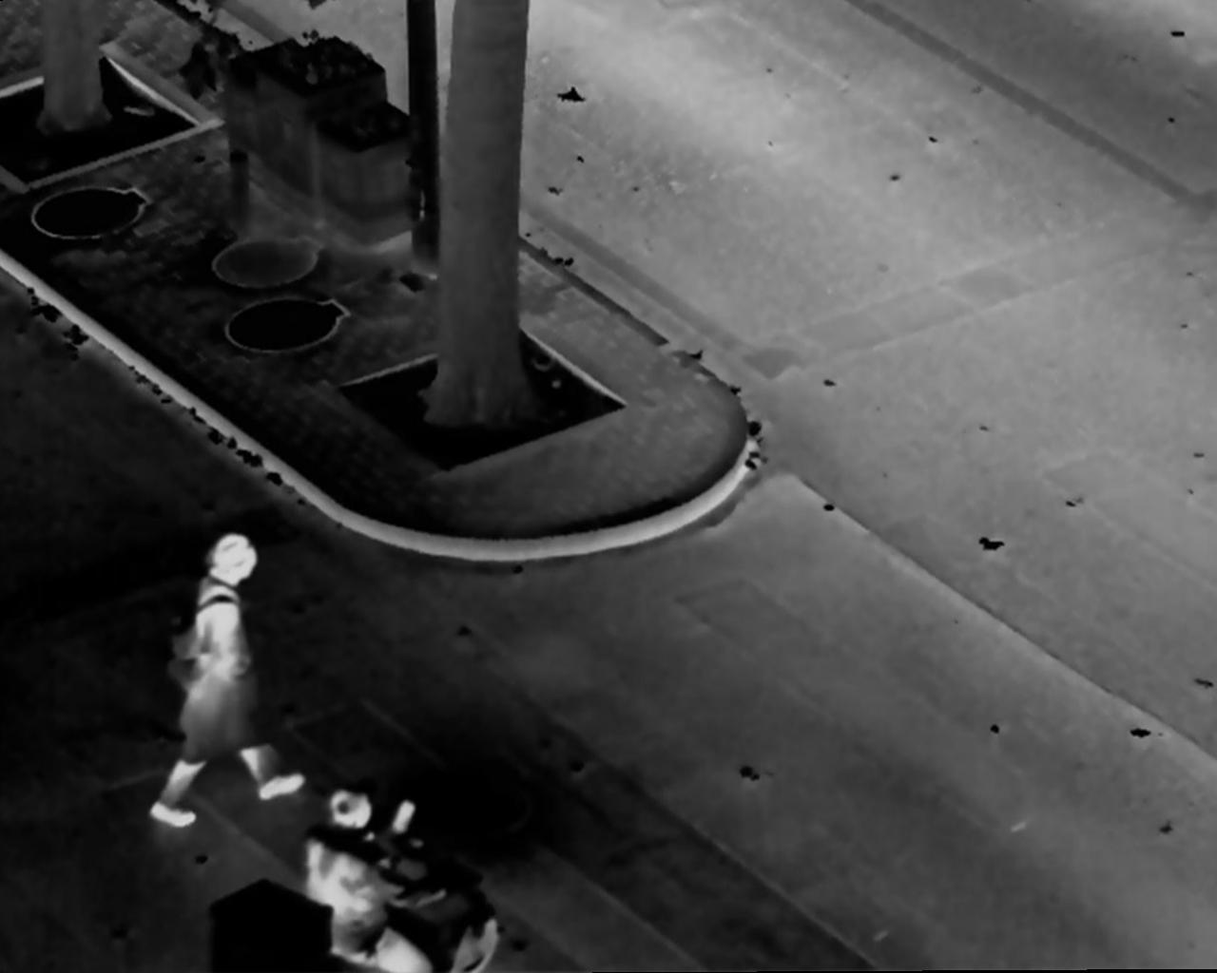person: (151, 533, 315, 829), (300, 790, 506, 973)
